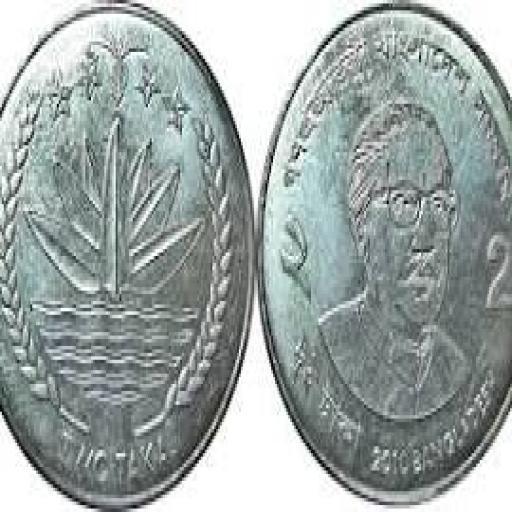2taka: (0, 0, 252, 505), (258, 3, 510, 498)
